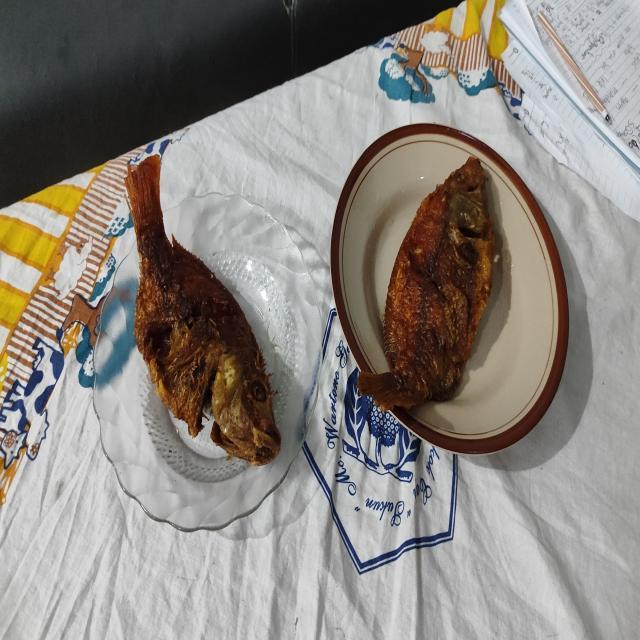ikan_mujair: (125, 154, 281, 466), (358, 156, 494, 410)
